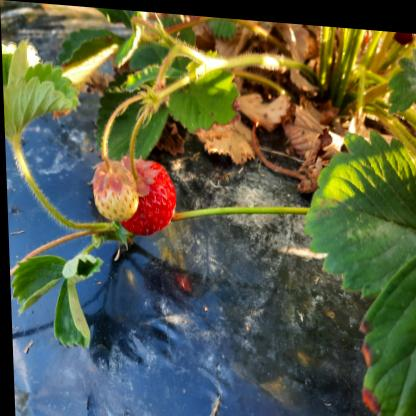ripe: (116, 151, 175, 231)
unripe: (91, 160, 140, 215)
